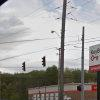Traffic light: (17, 54, 52, 73)
